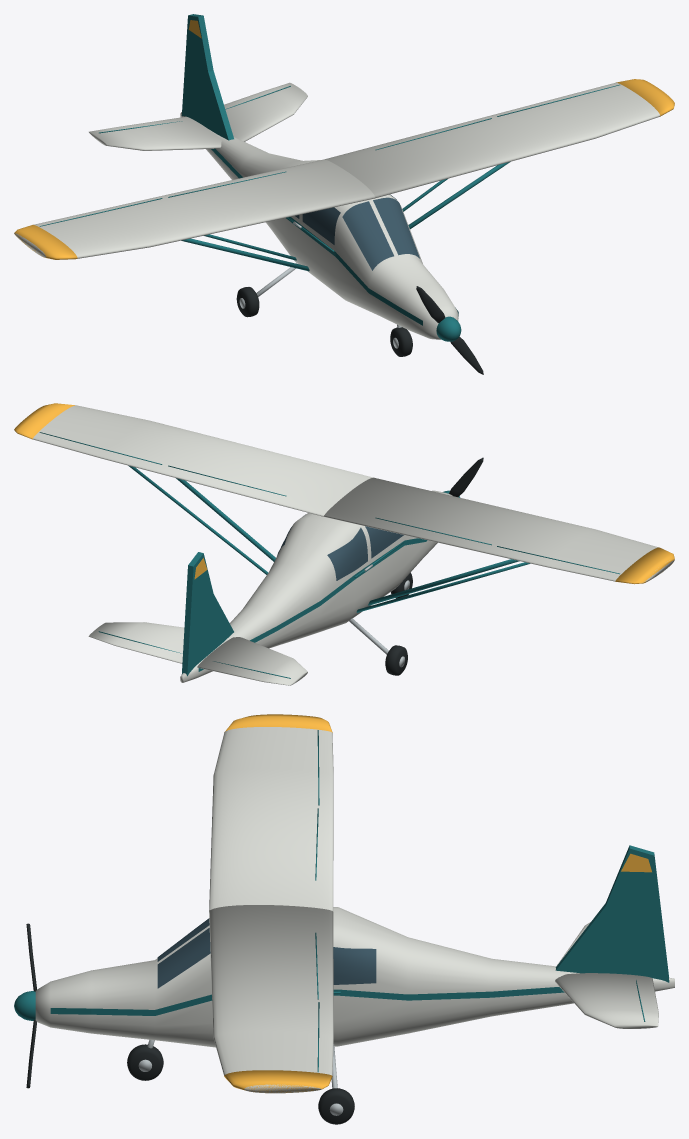
The model's file is meadow_trainer.glb.
3 renders of one model, top to bottom at view 1: azimuth 30°, elevation 25°; view 2: azimuth 150°, elevation 25°; view 3: azimuth 270°, elevation 25°, orthographic. The views are drawn at different scales.
Parts seen in each view (by area): view 1: Port high wing, Starboard high wing, Fuselage | CG at origin, Swept vertical fin, Starboard tailplane, Port tailplane, Starboard windshield, Port windshield, Starboard amber wingtip, Port amber wingtip, Starboard teal belt, Starboard forward cabin window (+2 smaller); view 2: Port high wing, Starboard high wing, Fuselage | CG at origin, Swept vertical fin, Starboard tailplane, Port tailplane, Starboard rear cabin window, Starboard amber wingtip, Starboard teal belt, Port amber wingtip, Starboard wing lift strut, Starboard rear lift strut (+5 smaller); view 3: Fuselage | CG at origin, Starboard high wing, Port high wing, Swept vertical fin, Port tailplane, Port teal belt, Port amber wingtip, Port rear cabin window, Port windshield, Starboard amber wingtip, Port main tyre, Nose tyre.
Part boxes in pixels (left/top/right/bottom): Port high wing: left=325, top=82, right=660, bottom=198; Starboard high wing: left=14, top=159, right=374, bottom=258; Fuselage | CG at origin: left=180, top=112, right=458, bottom=339; Swept vertical fin: left=181, top=14, right=233, bottom=140; Starboard tailplane: left=89, top=116, right=221, bottom=150; Port tailplane: left=224, top=82, right=307, bottom=141; Starboard windshield: left=342, top=201, right=393, bottom=270; Port windshield: left=373, top=197, right=419, bottom=258; Starboard amber wingtip: left=14, top=225, right=77, bottom=259; Port amber wingtip: left=616, top=79, right=674, bottom=116; Starboard teal belt: left=211, top=148, right=422, bottom=325; Starboard forward cabin window: left=302, top=207, right=340, bottom=244; Port high wing: left=33, top=405, right=372, bottom=516; Starboard high wing: left=324, top=477, right=674, bottom=581; Fuselage | CG at origin: left=180, top=490, right=452, bottom=682; Swept vertical fin: left=181, top=552, right=233, bottom=676; Starboard tailplane: left=197, top=637, right=307, bottom=685; Port tailplane: left=88, top=622, right=184, bottom=663; Starboard rear cabin window: left=327, top=527, right=367, bottom=580; Starboard amber wingtip: left=615, top=547, right=674, bottom=584; Starboard teal belt: left=198, top=538, right=427, bottom=671; Port amber wingtip: left=14, top=403, right=74, bottom=439; Starboard wing lift strut: left=368, top=559, right=519, bottom=605; Starboard rear lift strut: left=356, top=562, right=530, bottom=612; Fuselage | CG at origin: left=35, top=907, right=674, bottom=1047; Starboard high wing: left=209, top=727, right=333, bottom=911; Port high wing: left=209, top=905, right=333, bottom=1093; Swept vertical fin: left=555, top=845, right=669, bottom=982; Port tailplane: left=555, top=973, right=658, bottom=1028; Port teal belt: left=50, top=987, right=564, bottom=1015; Port amber wingtip: left=224, top=1070, right=332, bottom=1093; Port rear cabin window: left=333, top=947, right=376, bottom=984; Port windshield: left=157, top=928, right=210, bottom=988; Starboard amber wingtip: left=224, top=714, right=332, bottom=732; Port main tyre: left=318, top=1088, right=354, bottom=1124; Nose tyre: left=127, top=1044, right=163, bottom=1080.
Bounding box in the file's own units: 11 × 3.22 × 8.3.
